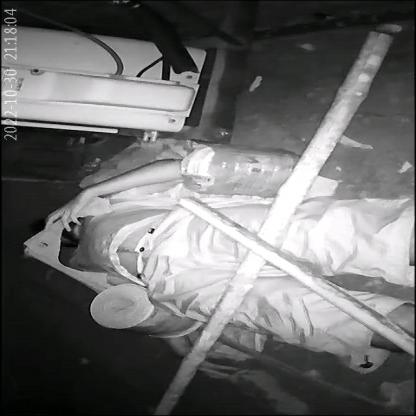hand: (30, 180, 127, 233)
